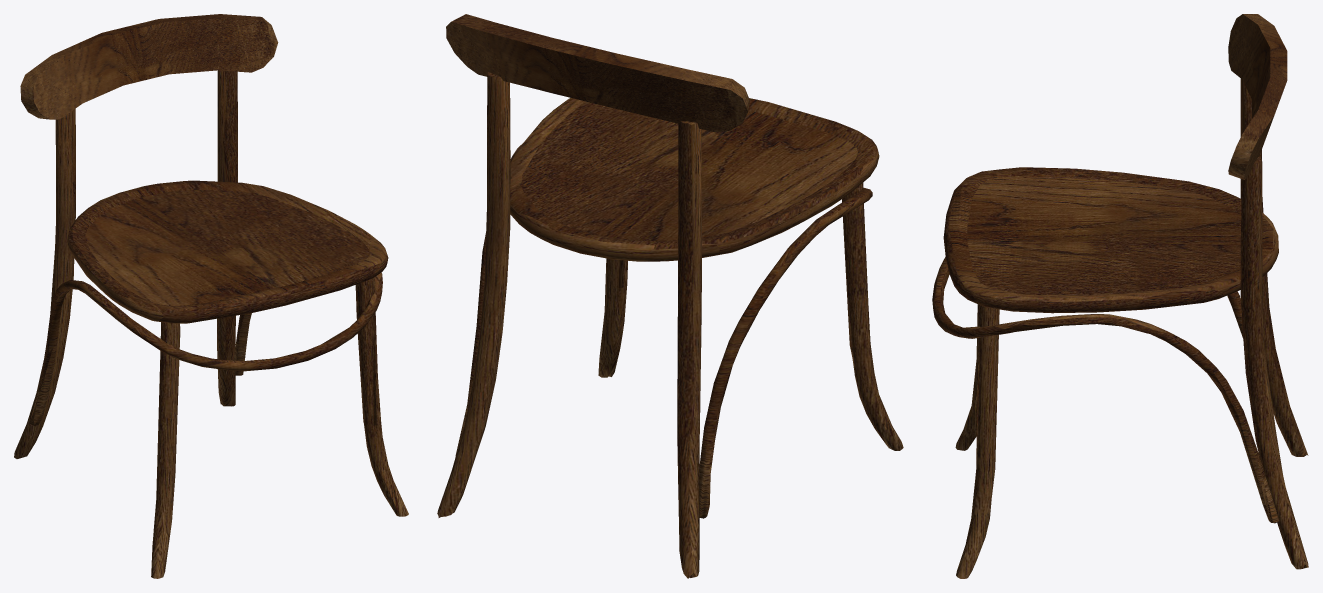
Rendered from chair1.FBX.
The picture shows the model from 3 angles, left to right: view 1: azimuth 30°, elevation 25°; view 2: azimuth 150°, elevation 25°; view 3: azimuth 270°, elevation 25°; orthographic projection. The views are drawn at different scales.
Visible parts, largest first — view 1: chair1; view 2: chair1; view 3: chair1.
Boxes of the visible parts, x1=… form: chair1: x1=14, y1=14, x2=408, y2=578; chair1: x1=437, y1=14, x2=903, y2=578; chair1: x1=932, y1=14, x2=1308, y2=578.
Bounding box in the file's own units: 73.86 × 111 × 84.05.
Materials: 1 (1 with a texture image).
